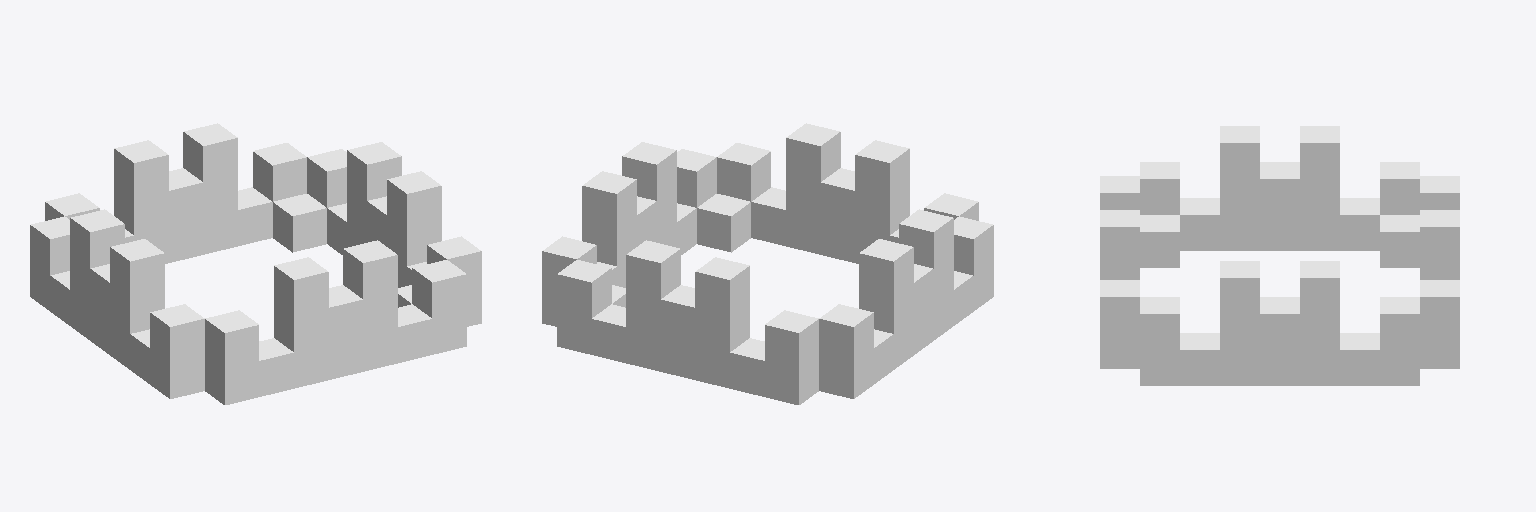
The model's file is Crown1.obj.
The picture shows the model from 3 angles: view 1: azimuth 30°, elevation 25°; view 2: azimuth 150°, elevation 25°; view 3: azimuth 270°, elevation 25°; orthographic projection.
Visible parts, largest first — view 1: object 1; view 2: object 1; view 3: object 1.
Part boxes in pixels (x1,y1,x2,y2): object 1: (30, 123, 481, 404); object 1: (542, 123, 993, 404); object 1: (1100, 126, 1459, 385).
Bounding box in the file's own units: 0.9 × 0.3 × 0.9.